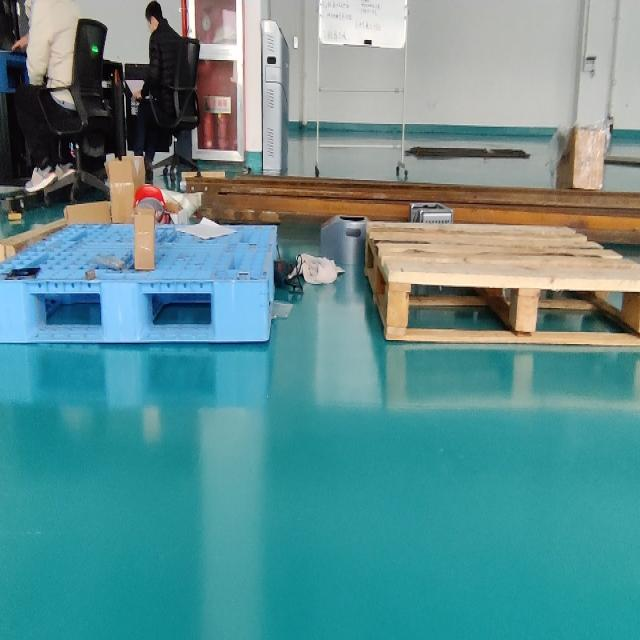euro: (366, 221, 639, 344)
